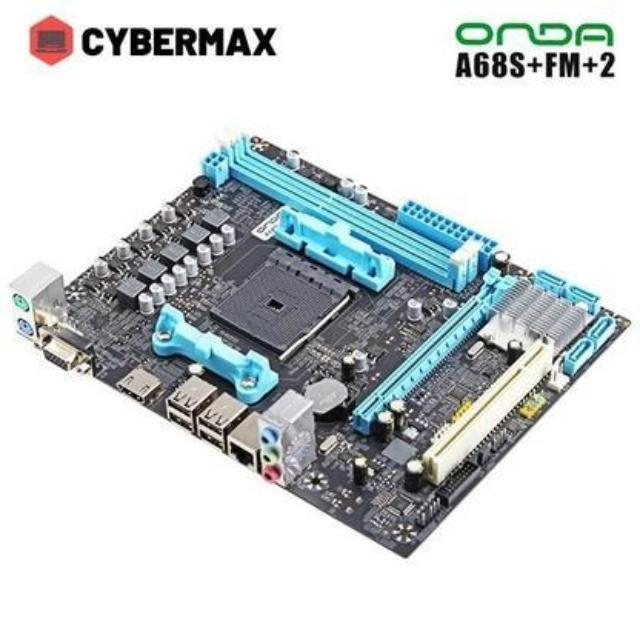Mainboard: (0, 126, 640, 569)
